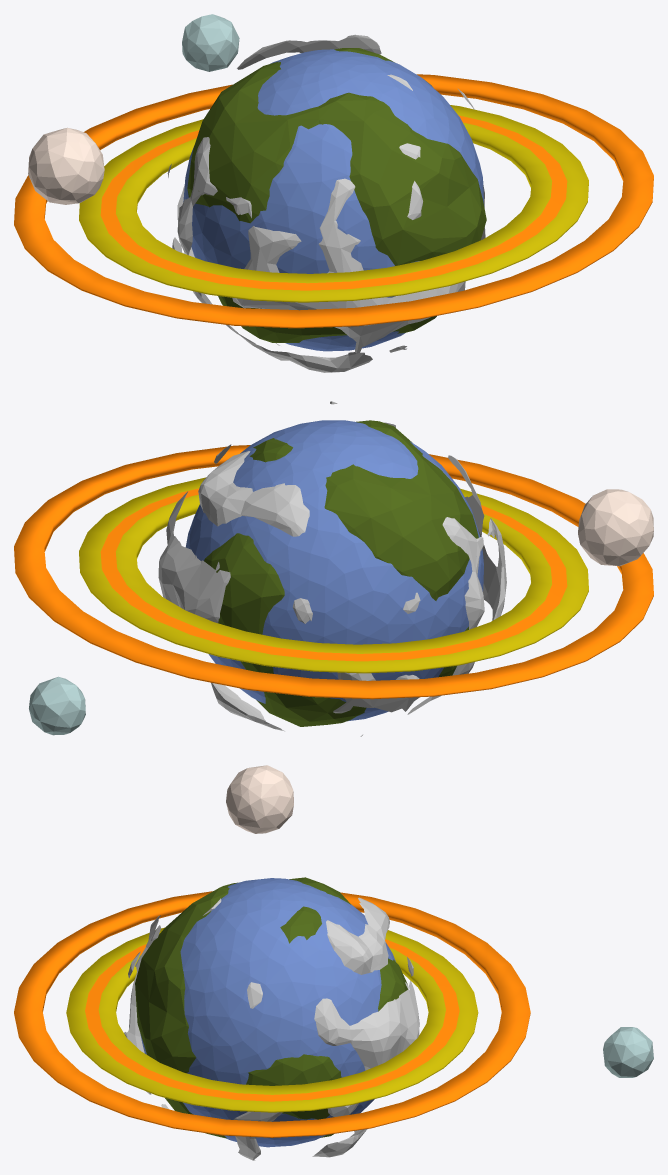
File: planet.fbx
3 renders of one model, top to bottom at view 1: azimuth 30°, elevation 25°; view 2: azimuth 150°, elevation 25°; view 3: azimuth 270°, elevation 25°, orthographic. The views are drawn at different scales.
Visible parts, largest first — view 1: Cylinder, Icosphere, Sphere, Sphere.001, Icosphere.001, Icosphere.002; view 2: Cylinder, Sphere, Icosphere, Sphere.001, Icosphere.001, Icosphere.002; view 3: Cylinder, Sphere, Icosphere, Sphere.001, Icosphere.001, Icosphere.002.
Boxes of the visible parts, x1,y1,x2,y2 form: Cylinder: [14, 74, 653, 328]; Icosphere: [187, 48, 486, 342]; Sphere: [183, 49, 484, 351]; Sphere.001: [167, 34, 485, 372]; Icosphere.001: [28, 127, 104, 204]; Icosphere.002: [182, 14, 239, 71]; Cylinder: [14, 445, 653, 699]; Sphere: [185, 420, 483, 721]; Icosphere: [204, 420, 478, 726]; Sphere.001: [158, 401, 506, 736]; Icosphere.001: [578, 489, 653, 566]; Icosphere.002: [29, 676, 85, 735]; Cylinder: [14, 891, 530, 1137]; Sphere: [140, 878, 395, 1147]; Icosphere: [135, 877, 407, 1138]; Sphere.001: [124, 897, 419, 1160]; Icosphere.001: [226, 765, 293, 833]; Icosphere.002: [603, 1027, 653, 1077].
Size of the model in its own units: 9.66 by 4.44 by 10.12.
